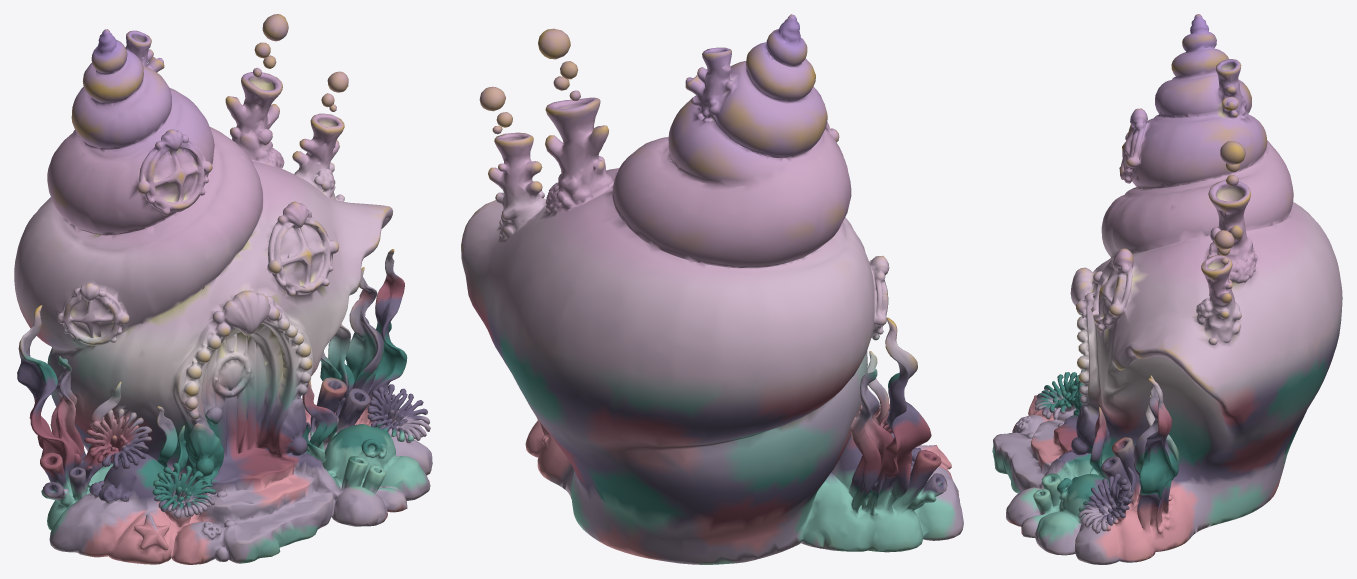
The model's file is conch-shell-home.glb.
3 renders of one model, left to right at view 1: azimuth 30°, elevation 25°; view 2: azimuth 150°, elevation 25°; view 3: azimuth 270°, elevation 25°, orthographic. The views are drawn at different scales.
Parts seen in each view (by area): view 1: Mesh_0; view 2: Mesh_0; view 3: Mesh_0.
Boxes of the visible parts, x1,y1,x2,y2 form: Mesh_0: (14, 14, 432, 564); Mesh_0: (461, 14, 963, 564); Mesh_0: (992, 14, 1342, 564).
Bounding box in the file's own units: 1.66 × 1.91 × 1.41.
